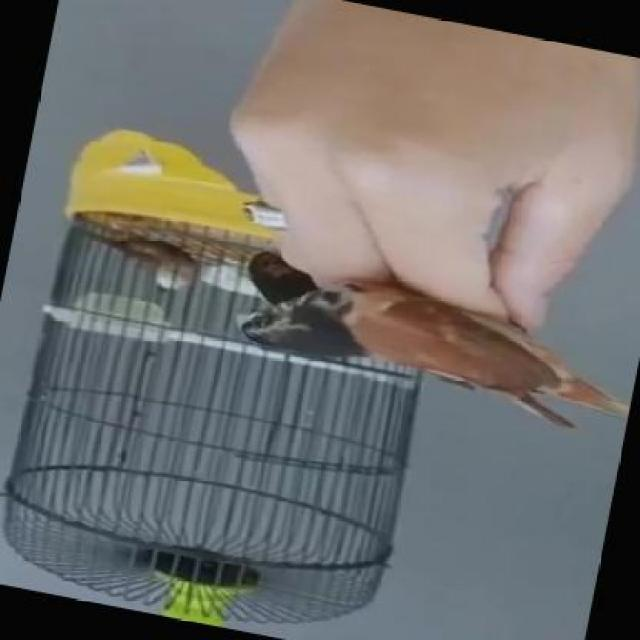Bird: (223, 264, 629, 467), (102, 212, 201, 310)
